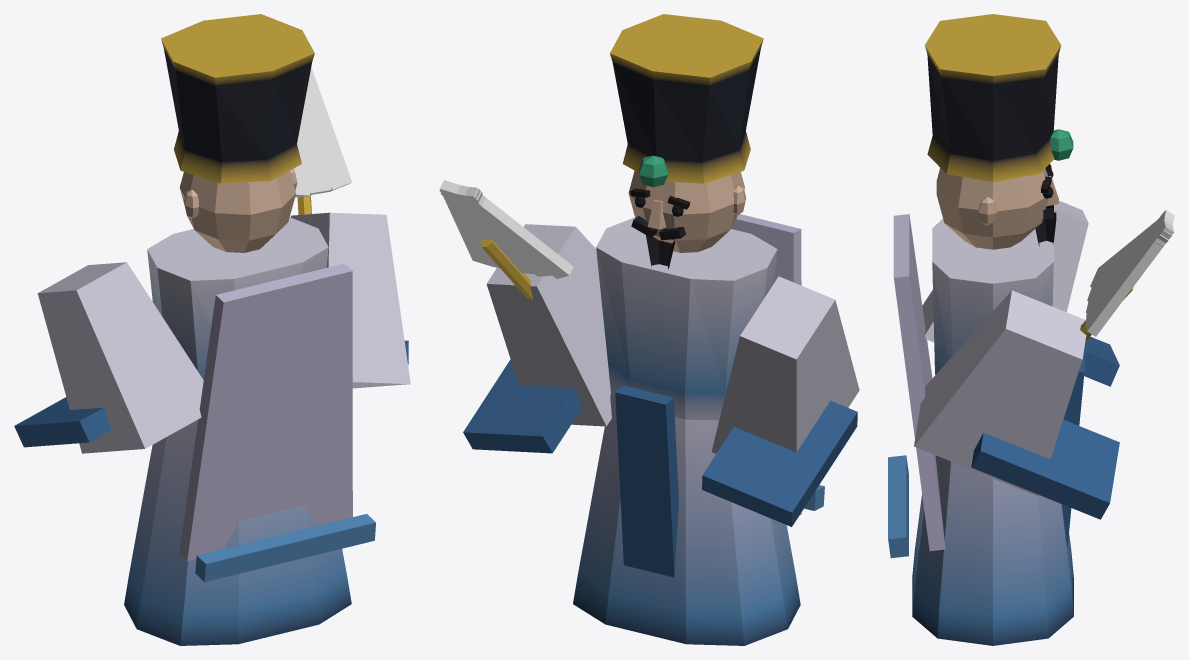
The model's file is zhuge_liang.glb.
The picture shows the model from 3 angles, left to right: view 1: azimuth 30°, elevation 25°; view 2: azimuth 150°, elevation 25°; view 3: azimuth 270°, elevation 25°; orthographic projection.
Visible parts, largest first — view 1: zhuge_liang; view 2: zhuge_liang; view 3: zhuge_liang.
Boxes of the visible parts, box(x1,y1,x2,y2) form: zhuge_liang: box(14, 14, 410, 645); zhuge_liang: box(439, 14, 859, 645); zhuge_liang: box(888, 14, 1174, 645).
Size of the model in its own units: 0.7152 by 1.16 by 0.546.
